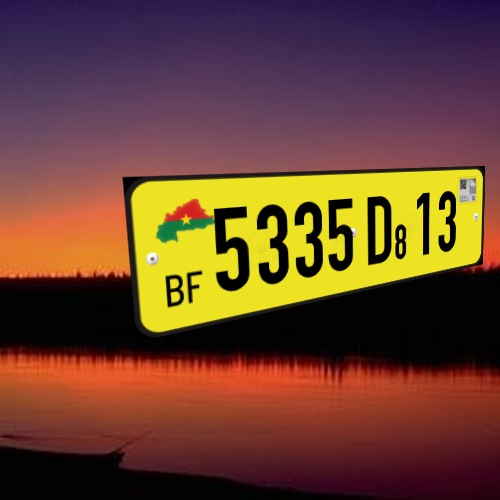plate: (102, 145, 497, 353)
